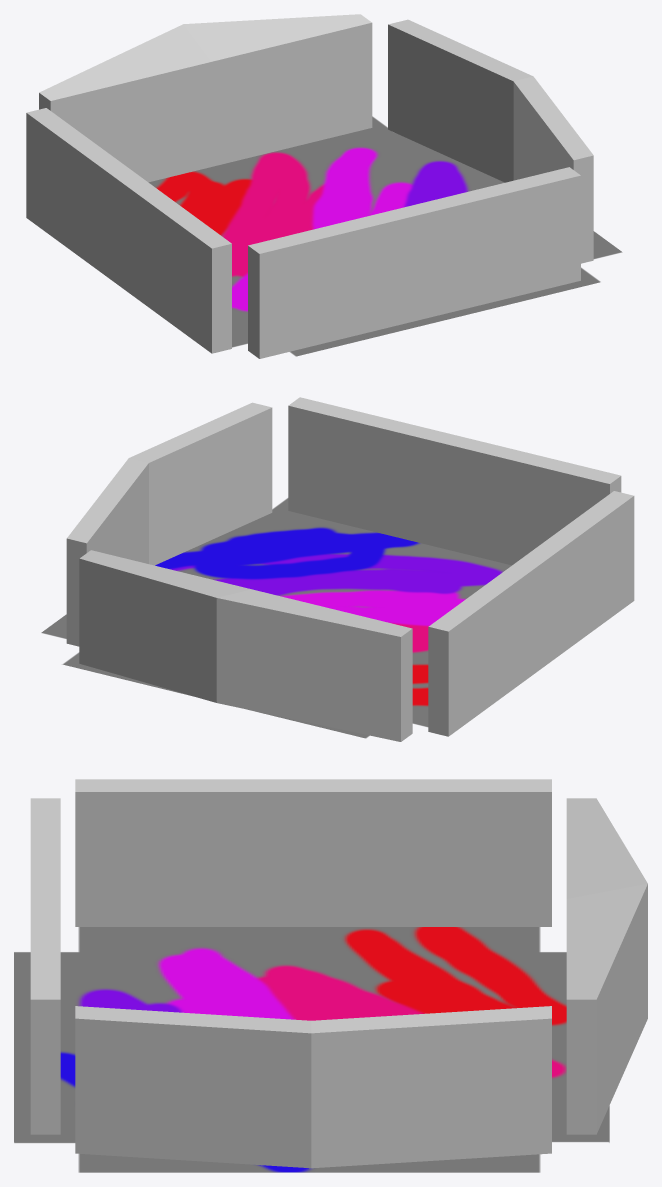
The model's file is room1.gltf.
3 views of the same model, one above another, from view 1: azimuth 30°, elevation 25°; view 2: azimuth 150°, elevation 25°; view 3: azimuth 270°, elevation 25° (orthographic). The views are drawn at different scales.
Visible parts, largest first — view 1: WallS., WallN., Ground, WallW., WallE.; view 2: WallN., WallS., WallW., Ground, WallE.; view 3: WallE., WallW., Ground, WallN., WallS..
Part boxes in pixels (<box>): WallS.: <box>248,167,580,358</box>; WallN.: <box>39,14,372,182</box>; Ground: <box>148,116,622,356</box>; WallW.: <box>26,108,231,353</box>; WallE.: <box>388,19,593,263</box>; WallN.: <box>79,550,412,741</box>; WallS.: <box>288,397,621,565</box>; WallW.: <box>428,491,634,736</box>; Ground: <box>41,498,511,738</box>; WallE.: <box>66,402,272,646</box>; WallE.: <box>75,1006,551,1168</box>; WallW.: <box>75,779,551,926</box>; Ground: <box>14,927,609,1172</box>; WallN.: <box>566,798,647,1134</box>; WallS.: <box>30,798,60,1134</box>.
Bounding box in the file's own units: 1.03 × 0.2826 × 1.06.
Materials: 1 (1 with a texture image).
